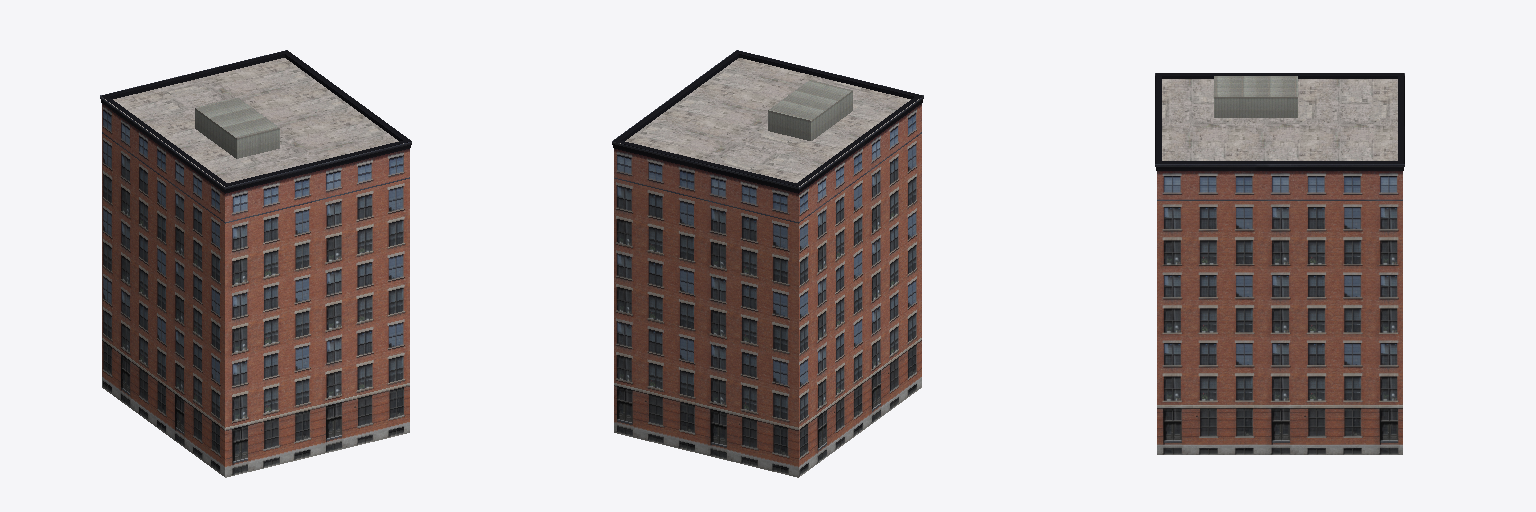
3 views of the same model, side by side, from view 1: azimuth 30°, elevation 25°; view 2: azimuth 150°, elevation 25°; view 3: azimuth 270°, elevation 25° (orthographic).
Visible parts, largest first — view 1: building_8; view 2: building_8; view 3: building_8.
Part boxes in pixels (x1,y1,x2,y2): building_8: (100,50,411,477); building_8: (612,50,923,477); building_8: (1155,73,1404,454).
Bounding box in the file's own units: 59.05 × 92.87 × 68.2.
Materials: 1 (1 with a texture image).